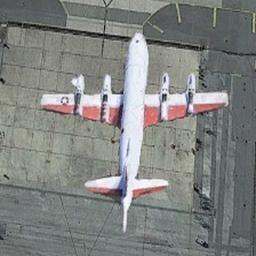Airplane: (34, 30, 231, 242)
